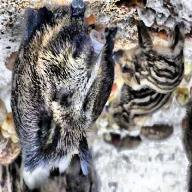boar: (3, 6, 117, 178), (109, 21, 192, 97), (111, 87, 168, 136)
